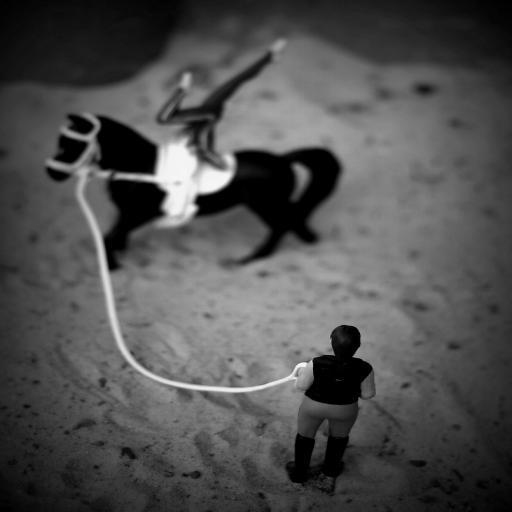horse: (43, 112, 342, 272)
